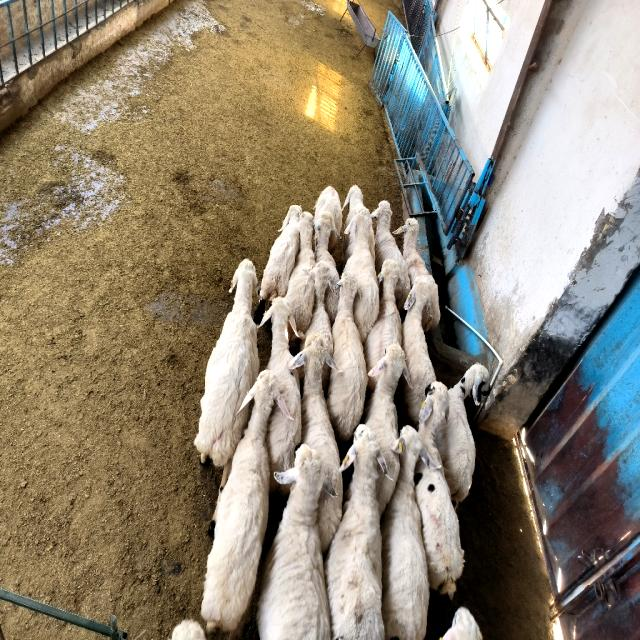sheep: (201, 370, 290, 632), (194, 258, 260, 491), (258, 445, 331, 640), (325, 425, 385, 639), (290, 333, 342, 553), (415, 382, 464, 598), (381, 425, 429, 639), (435, 363, 489, 508), (364, 343, 409, 514), (259, 297, 301, 472), (326, 272, 368, 442), (396, 275, 436, 428), (258, 205, 301, 319), (344, 207, 379, 342), (371, 200, 411, 309), (364, 260, 401, 371), (285, 212, 315, 334), (305, 262, 332, 354), (394, 218, 429, 282), (315, 212, 339, 286), (314, 185, 342, 231), (343, 185, 364, 228), (325, 287, 339, 322), (342, 235, 352, 264)
